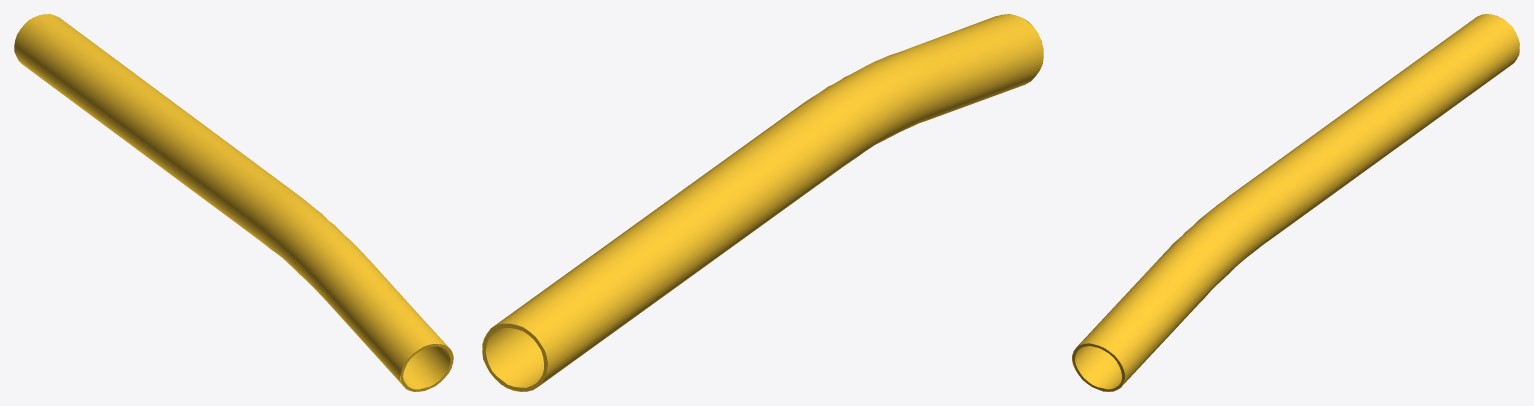
File: original_4.obj
The picture shows the model from 3 angles, left to right: view 1: azimuth 30°, elevation 25°; view 2: azimuth 150°, elevation 25°; view 3: azimuth 330°, elevation 25°; orthographic projection. The views are drawn at different scales.
Parts seen in each view (by area): view 1: #ID404; view 2: #ID404; view 3: #ID404.
Part boxes in pixels (bbox=[...]): #ID404: bbox=[14, 14, 453, 391]; #ID404: bbox=[482, 14, 1043, 391]; #ID404: bbox=[1072, 14, 1519, 391].
Size of the model in its own units: 0.0282 by 0.0445 by 0.3423.
